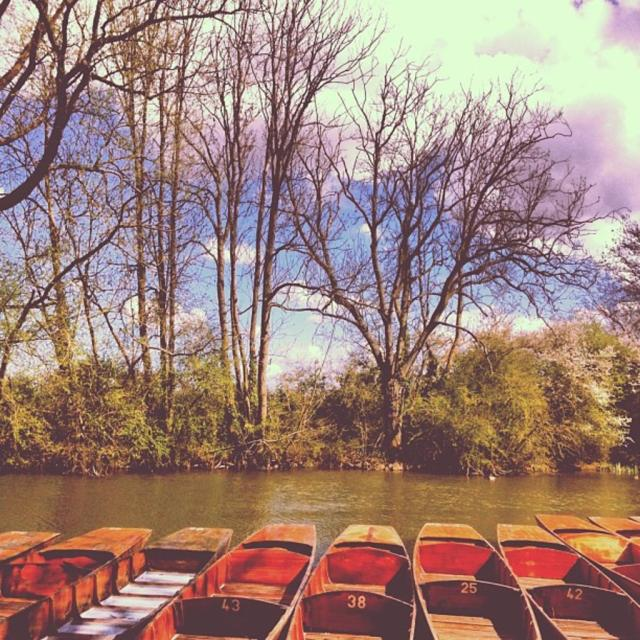Boat: (18, 530, 235, 639), (165, 530, 352, 626), (408, 517, 553, 639), (0, 527, 157, 636), (494, 523, 639, 639), (284, 521, 422, 639), (535, 514, 639, 598), (0, 527, 53, 559), (626, 514, 639, 538)
